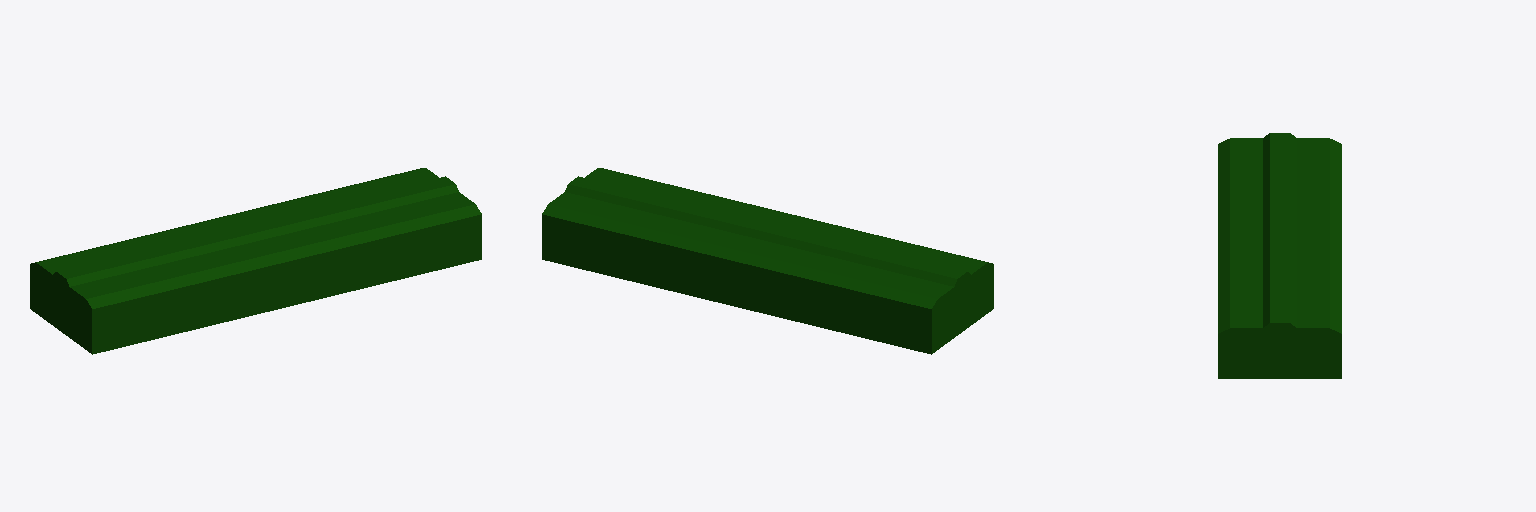
File: sgc_pit_light.obj
The picture shows the model from 3 angles: view 1: azimuth 30°, elevation 25°; view 2: azimuth 150°, elevation 25°; view 3: azimuth 270°, elevation 25°; orthographic projection.
Visible parts, largest first — view 1: Pit_Light_LP; view 2: Pit_Light_LP; view 3: Pit_Light_LP.
Boxes of the visible parts, x1=… form: Pit_Light_LP: x1=30, y1=168, x2=481, y2=354; Pit_Light_LP: x1=542, y1=168, x2=993, y2=354; Pit_Light_LP: x1=1218, y1=133, x2=1341, y2=378.
Bounding box in the file's own units: 21.95 × 3.05 × 6.1.